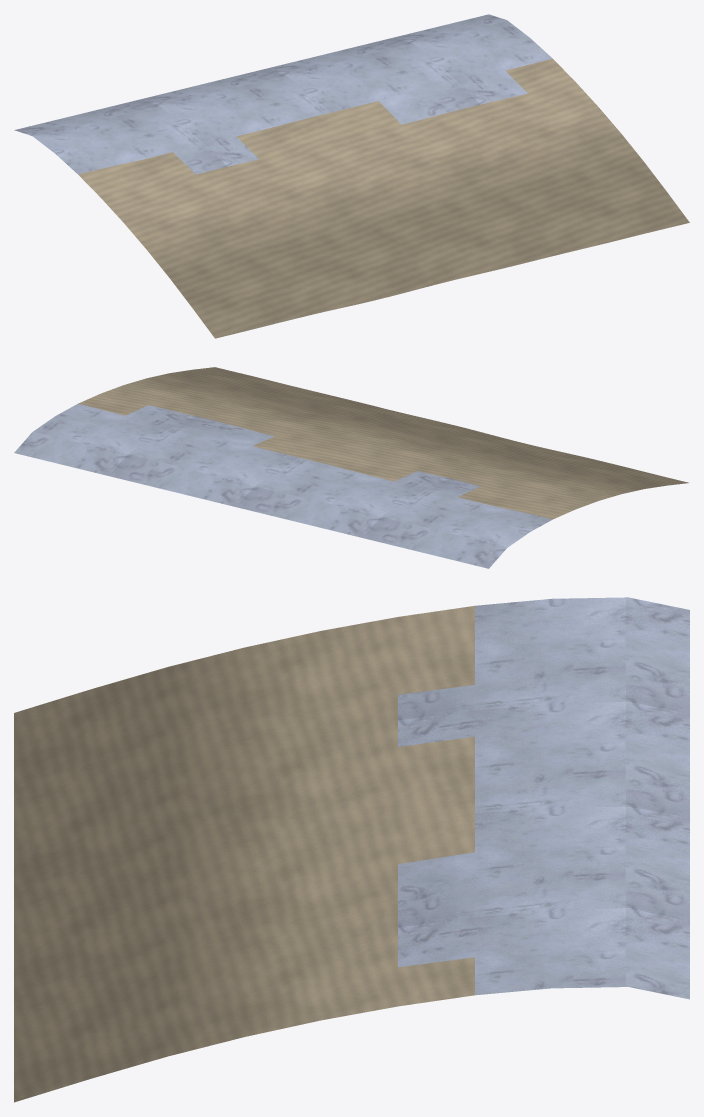
File: beach_sand_straight6_v5_winter.glb
3 renders of one model, top to bottom at view 1: azimuth 30°, elevation 25°; view 2: azimuth 150°, elevation 25°; view 3: azimuth 270°, elevation 25°, orthographic. The views are drawn at different scales.
Visible parts, largest first — view 1: beach_sand_straight6; view 2: beach_sand_straight6; view 3: beach_sand_straight6.
Boxes of the visible parts, left/top/right/bottom form: beach_sand_straight6: left=14, top=14, right=689, bottom=338; beach_sand_straight6: left=14, top=367, right=688, bottom=568; beach_sand_straight6: left=14, top=597, right=689, bottom=1102.
Bounding box in the file's own units: 6 × 0.8494 × 4.4.
Materials: 2 (2 with a texture image).
